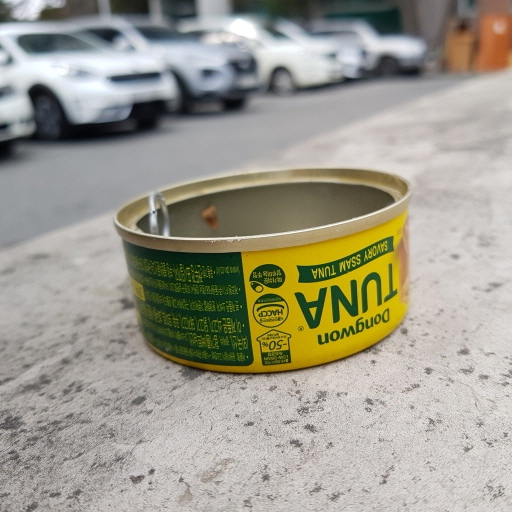Metal_1: (114, 165, 415, 377)
